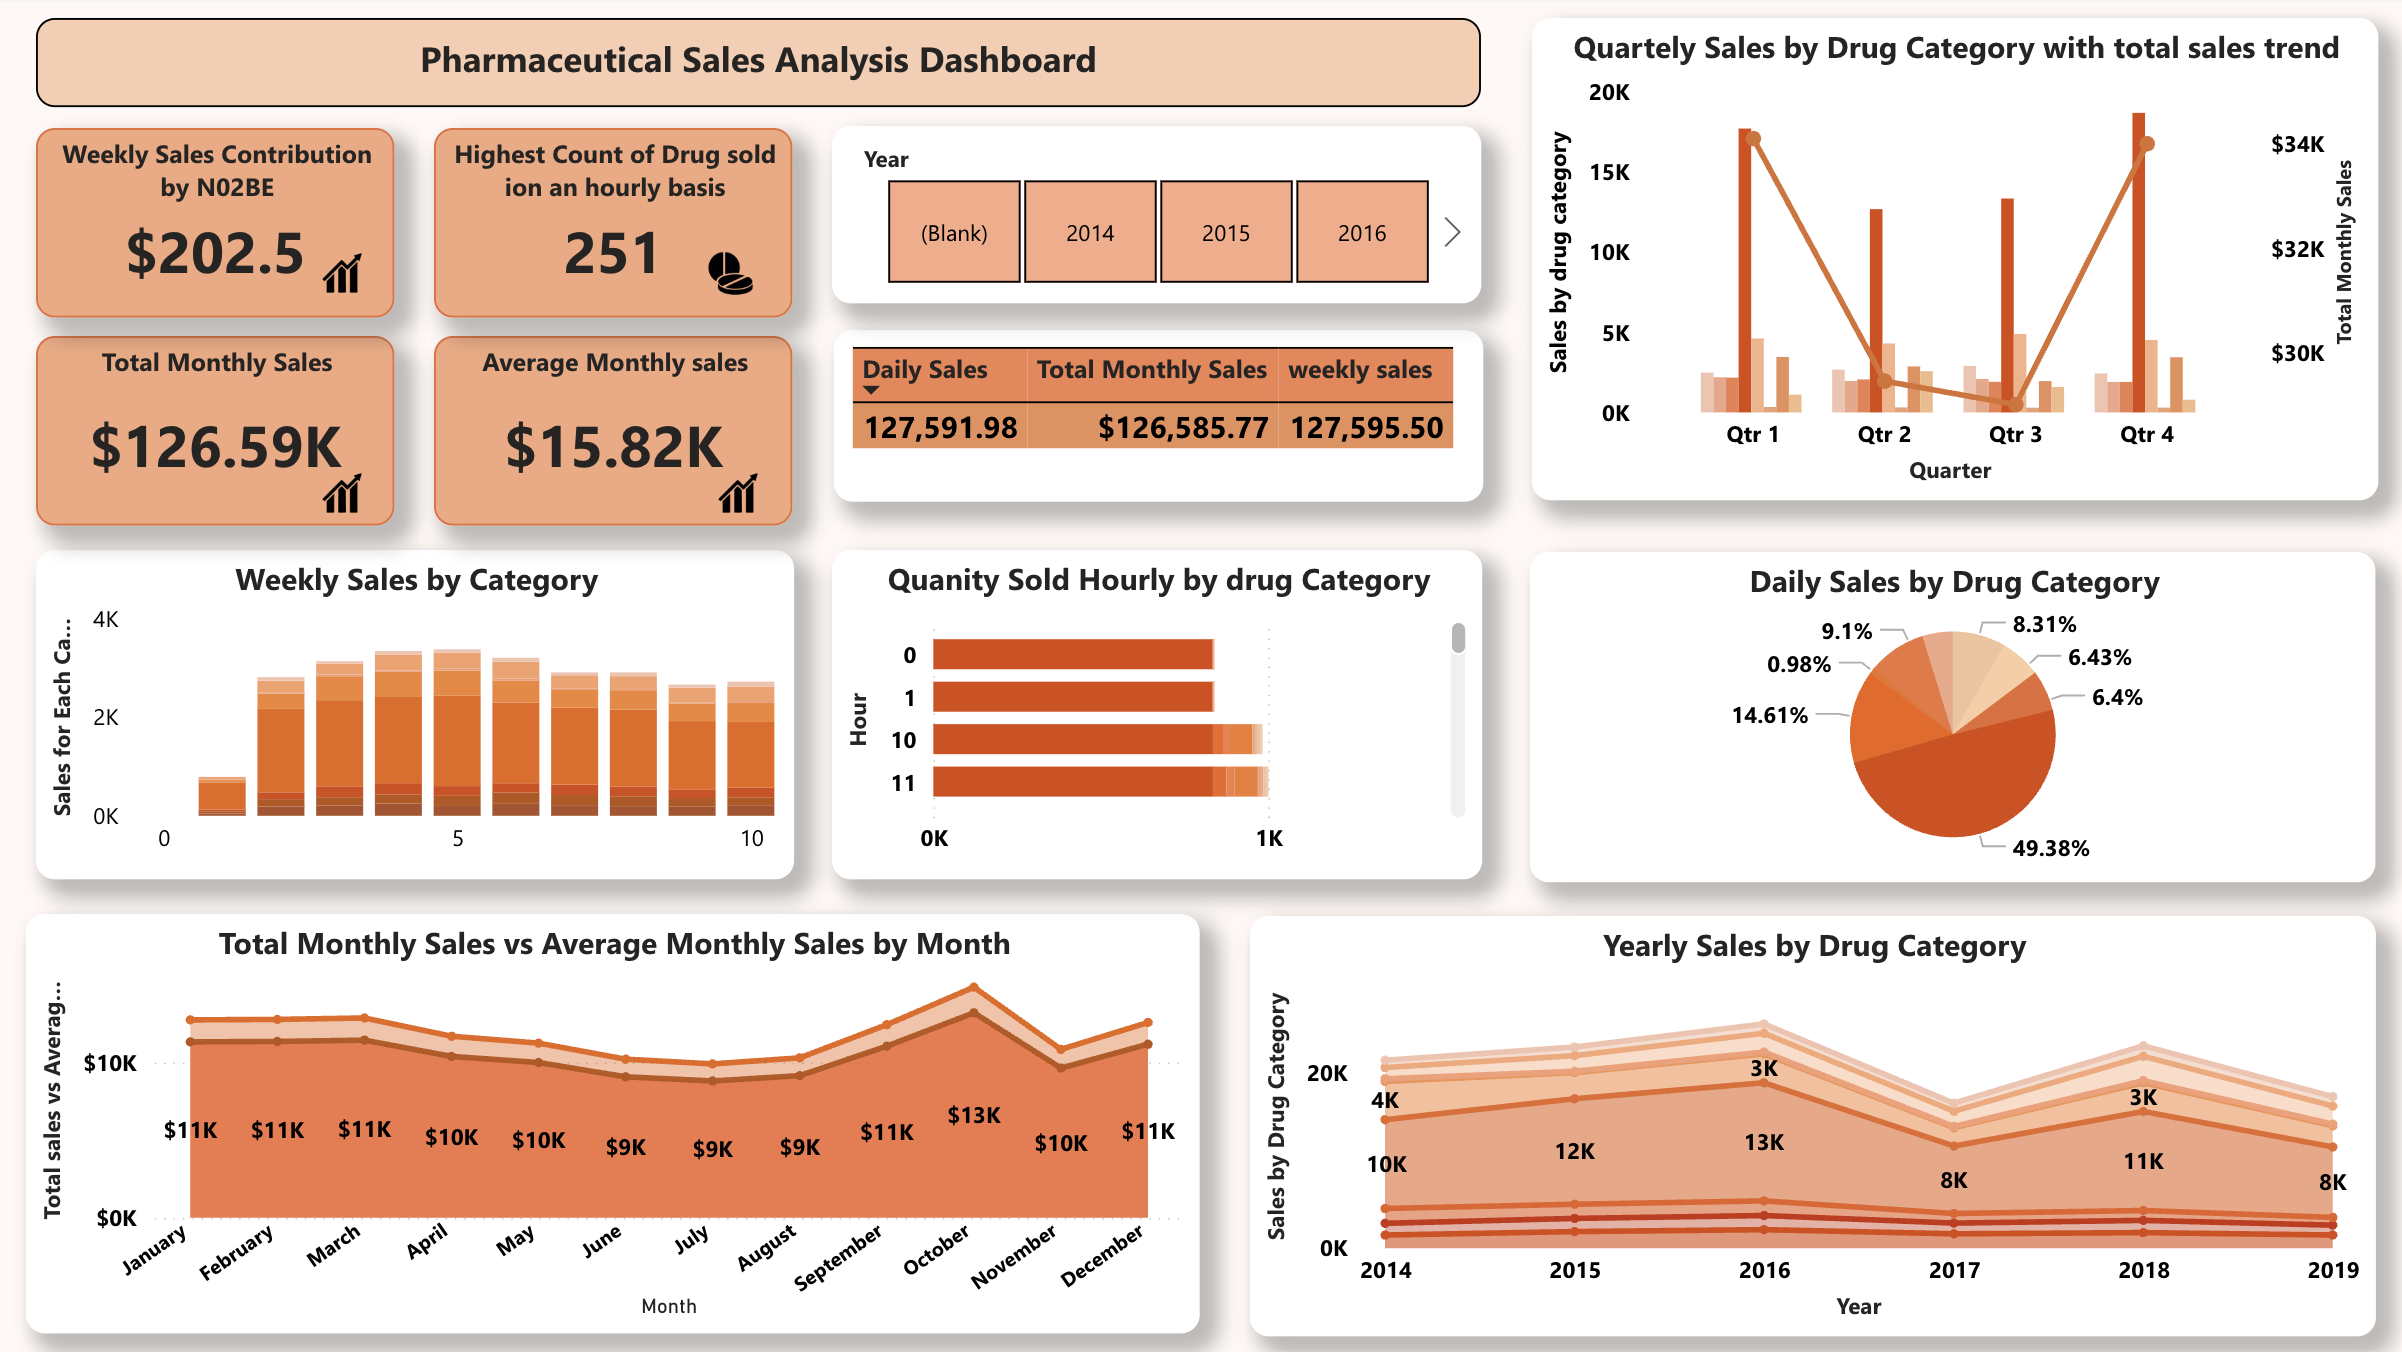

Layout of this report page (visuals, bound fields, positions):
{"tool":"powerbi","page":{"name":"Dashboard","canvas":[1280,720],"ordinal":0},"visuals":[{"type":"textbox","box":[19.2,8.9,770.1,47.3],"z":0},{"type":"columnChart","title":"Weekly Sales by Category","fields":{"Category":["Sales Weekly.Week Num"],"Y":["Sum(Sales Weekly.M01AB)","Sum(Sales Weekly.M01AE)","Sum(Sales Weekly.N02BA)","Sum(Sales Weekly.N02BE)","Sum(Sales Weekly.N05B)","Sum(Sales Weekly.N05C)","Sum(Sales Weekly.R03)","Sum(Sales Weekly.R06)"]},"box":[19.2,292.3,403.8,175.6],"z":1000},{"type":"stackedAreaChart","title":"Total Monthly Sales vs Average Monthly Sales by Month","fields":{"Category":["Sales Monthly.Date.Variation.Date Hierarchy.Month"],"Y":["Sales Monthly.Total Monthly Sales","Sales Monthly.Average Monthly Sales"]},"box":[13.7,486.3,625.5,223.5],"z":2000},{"type":"barChart","title":"Quanity Sold Hourly by drug Category","fields":{"Category":["Sales Hourly.Hour"],"Y":["CountNonNull(Sales Hourly.M01AB)","Count(Sales Hourly.M01AE)","Count(Sales Hourly.N02BA)","Count(Sales Hourly.N02BE)","Count(Sales Hourly.N05B)","Count(Sales Hourly.N05C)","Count(Sales Hourly.R03)","Count(Sales Hourly.R06)"]},"box":[443.3,292.2,346.7,175.6],"z":3000},{"type":"pieChart","title":"Daily Sales by Drug Category","fields":{"Y":["Sum(Sales Daily.M01AB)","Sum(Sales Daily.M01AE)","Sum(Sales Daily.N02BA)","Sum(Sales Daily.N02BE)","Sum(Sales Daily.N05B)","Sum(Sales Daily.N05C)","Sum(Sales Daily.R03)","Sum(Sales Daily.R06)"]},"box":[815.7,292.8,450.6,175.9],"z":4000},{"type":"stackedAreaChart","title":"Yearly Sales by Drug Category","fields":{"Category":["Sales Monthly.Date.Variation.Date Hierarchy.Year"],"Y":["Sum(Sales Monthly.M01AB)","Sum(Sales Monthly.M01AE)","Sum(Sales Monthly.N02BA)","Sum(Sales Monthly.N02BE)","Sum(Sales Monthly.N05B)","Sum(Sales Monthly.N05C)","Sum(Sales Monthly.R03)","Sum(Sales Monthly.R06)"]},"box":[666.3,486.7,600,224.1],"z":5000},{"type":"lineClusteredColumnComboChart","title":"Quartely Sales by Drug Category with total sales trend","fields":{"Category":["Sales Monthly.Date.Variation.Date Hierarchy.Quarter"],"Y":["Sum(Sales Monthly.M01AB)","Sum(Sales Monthly.M01AE)","Sum(Sales Monthly.N02BA)","Sum(Sales Monthly.N02BE)","Sum(Sales Monthly.N05B)","Sum(Sales Monthly.N05C)","Sum(Sales Monthly.R03)","Sum(Sales Monthly.R06)"],"Y2":["Sales Monthly.Total Monthly Sales"]},"box":[815.9,8.9,450.8,257.2],"z":6000},{"type":"card","title":"Total Monthly Sales","fields":{"Values":["Sales Monthly.Total Monthly Sales"]},"box":[18.9,177.8,191.1,101.1],"z":7000},{"type":"card","title":"Average Monthly sales","fields":{"Values":["Sales Monthly.Average Monthly Sales"]},"box":[231.1,177.8,191.1,101.1],"z":8000},{"type":"card","title":"Highest Count of Drug sold ion an hourly basis","fields":{"Values":["Count(Sales Hourly.N02BE)"]},"box":[231.1,66.7,191.1,101.1],"z":9000},{"type":"card","title":"Weekly Sales Contribution by N02BE","fields":{"Values":["Sales Weekly.weekly sales contribution by N02BE"]},"box":[18.9,66.7,191.1,101.1],"z":10000},{"type":"tableEx","fields":{"Values":["Sales Daily.Daily Sales","Sales Monthly.Total Monthly Sales","Sales Weekly.weekly sales"]},"box":[444.9,174.4,345.9,91.6],"z":11000},{"type":"slicer","fields":{"Values":["Sales Monthly.Date.Variation.Date Hierarchy.Year"]},"box":[443.4,66.5,345.9,94.6],"z":12000},{"type":"image","box":[365.6,127.8,47.8,33.3],"z":13000},{"type":"image","box":[162.2,127.8,40,33.3],"z":14000},{"type":"image","box":[162.2,245.6,40,33.3],"z":15000},{"type":"image","box":[373.3,245.6,40,33.3],"z":16000}]}

Visuals, with their boxes in screenshot pixels (x1, y1, x2, y2), scaled from the page's 1280x720 canvas onto the 2402x1352 screenshot:
textbox: x1=36, y1=17, x2=1481, y2=106
"Weekly Sales by Category" columnChart: x1=36, y1=549, x2=794, y2=879
"Total Monthly Sales vs Average Monthly Sales by Month" stackedAreaChart: x1=26, y1=913, x2=1199, y2=1333
"Quanity Sold Hourly by drug Category" barChart: x1=832, y1=549, x2=1482, y2=878
"Daily Sales by Drug Category" pieChart: x1=1531, y1=550, x2=2376, y2=880
"Yearly Sales by Drug Category" stackedAreaChart: x1=1250, y1=914, x2=2376, y2=1335
"Quartely Sales by Drug Category with total sales trend" lineClusteredColumnComboChart: x1=1531, y1=17, x2=2377, y2=500
"Total Monthly Sales" card: x1=35, y1=334, x2=394, y2=524
"Average Monthly sales" card: x1=434, y1=334, x2=792, y2=524
"Highest Count of Drug sold ion an hourly basis" card: x1=434, y1=125, x2=792, y2=315
"Weekly Sales Contribution by N02BE" card: x1=35, y1=125, x2=394, y2=315
tableEx - Sales Daily.Daily Sales x Sales Monthly.Total Monthly Sales: x1=835, y1=327, x2=1484, y2=499
slicer - Sales Monthly.Date.Variation.Date Hierarchy.Year: x1=832, y1=125, x2=1481, y2=303
image: x1=686, y1=240, x2=776, y2=303
image: x1=304, y1=240, x2=379, y2=303
image: x1=304, y1=461, x2=379, y2=524
image: x1=701, y1=461, x2=776, y2=524
